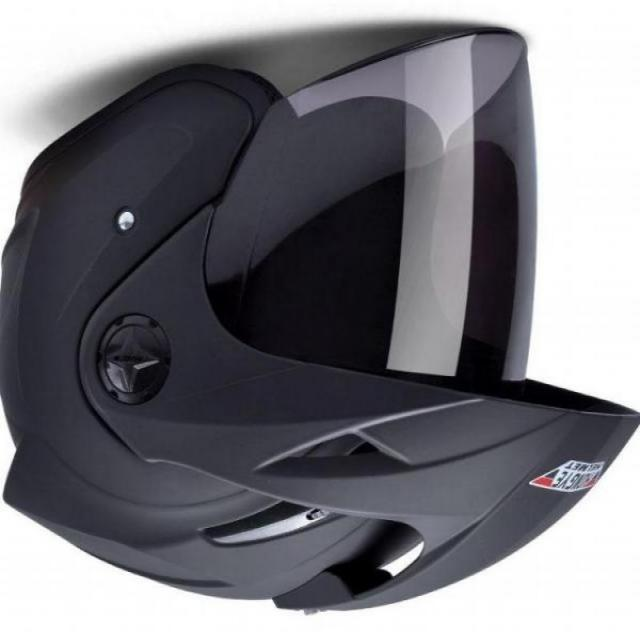Helmet: (0, 43, 640, 602)
